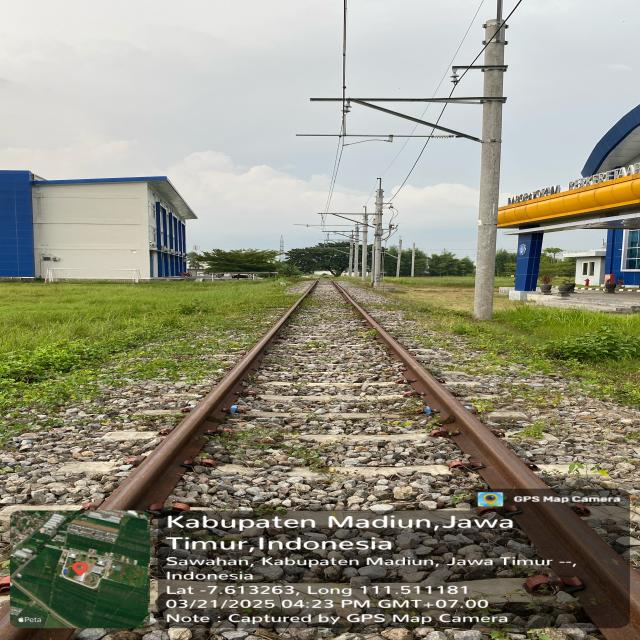rail-detection: (331, 282, 640, 640), (100, 281, 317, 510)
